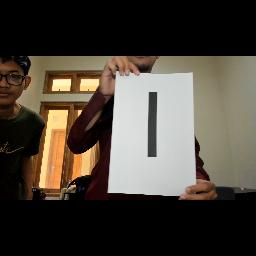i: (139, 88, 163, 164)
